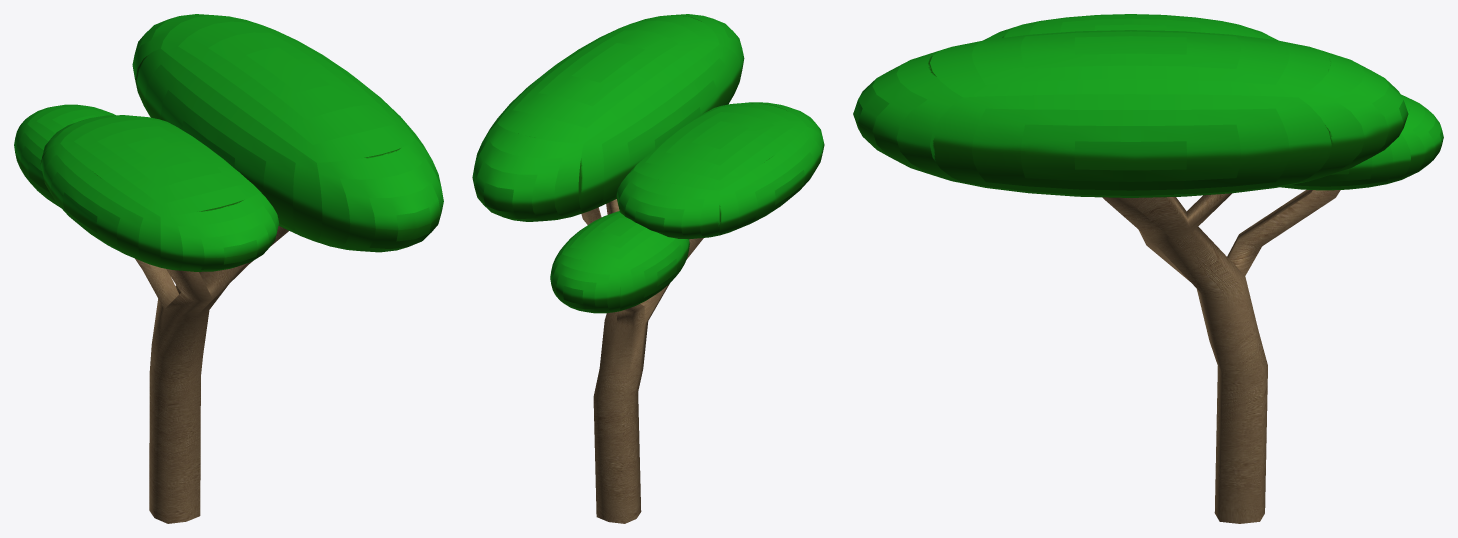
Rendered from tree-1.glb.
3 views of the same model, side by side, from view 1: azimuth 30°, elevation 25°; view 2: azimuth 150°, elevation 25°; view 3: azimuth 270°, elevation 25° (orthographic). The views are drawn at different scales.
Visible parts, largest first — view 1: Cube.003, Cube.002, tree1, Cube.001; view 2: Cube.003, Cube.002, tree1, Cube.001; view 3: Cube.003, tree1, Cube.001, Cube.002.
Boxes of the visible parts, x1,y1,x2,y2 form: Cube.003: (132,14,443,252); Cube.002: (40,115,278,271); tree1: (135,226,288,523); Cube.001: (14,104,115,207); Cube.003: (472,14,744,221); Cube.002: (616,102,824,239); tree1: (581,199,703,523); Cube.001: (550,211,689,313); Cube.003: (853,30,1408,197); tree1: (1102,190,1340,523); Cube.001: (1280,94,1443,190); Cube.002: (983,14,1278,40).
Bounding box in the file's own units: 9.08 × 13.88 × 14.79.
Materials: 2 (2 with a texture image).
